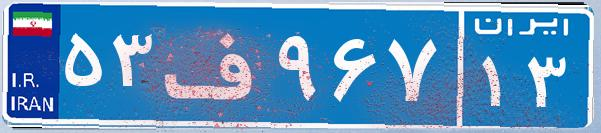1: (475, 38, 525, 113)
3: (110, 28, 158, 105), (525, 38, 570, 115)
5: (57, 26, 110, 107)
6: (330, 28, 385, 110)
7: (385, 28, 445, 110)
9: (273, 28, 330, 110)
ف: (158, 15, 273, 115)
